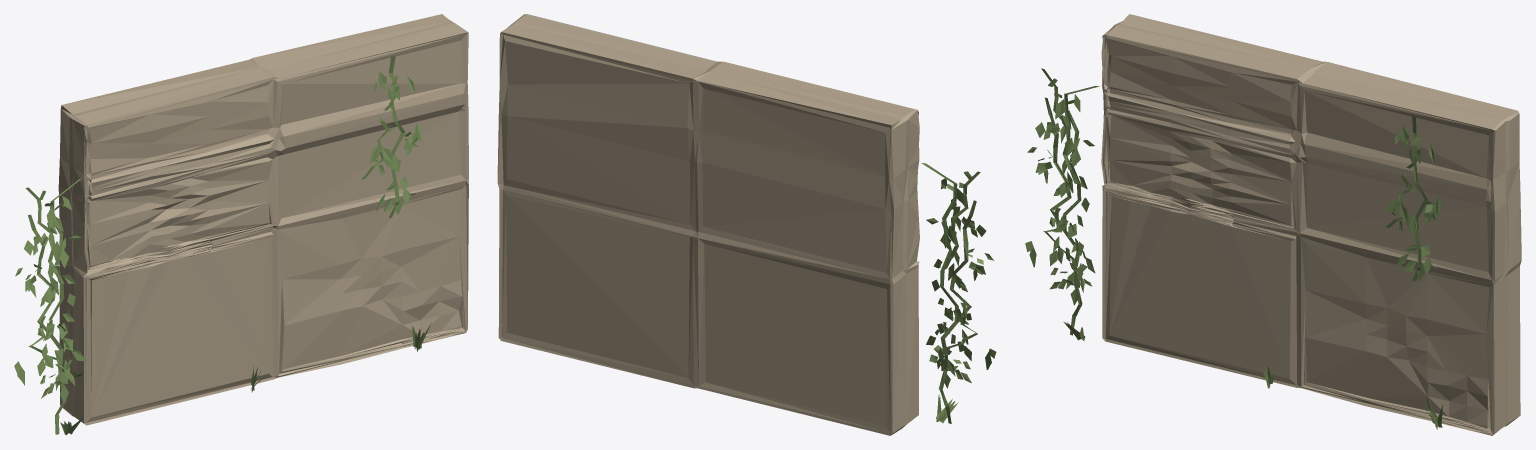
File: SM_Wall_A.fbx
The picture shows the model from 3 angles, left to right: view 1: azimuth 30°, elevation 25°; view 2: azimuth 150°, elevation 25°; view 3: azimuth 330°, elevation 25°; orthographic projection. The views are drawn at different scales.
Parts seen in each view (by area): view 1: SM_Wall_A; view 2: SM_Wall_A; view 3: SM_Wall_A.
Part boxes in pixels (bbox=[...]): SM_Wall_A: bbox=[14, 14, 468, 435]; SM_Wall_A: bbox=[497, 14, 996, 435]; SM_Wall_A: bbox=[1025, 14, 1521, 435].
Bounding box in the file's own units: 4.77 × 3.07 × 0.6513.
